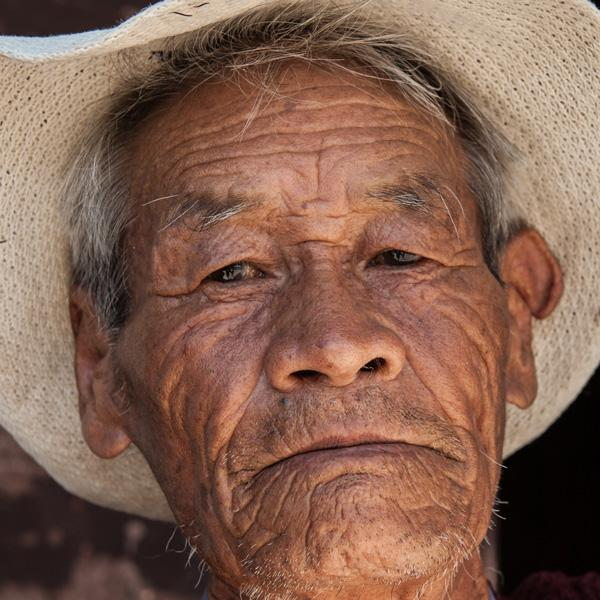Eyes: (351, 222, 452, 292), (187, 241, 285, 312)
